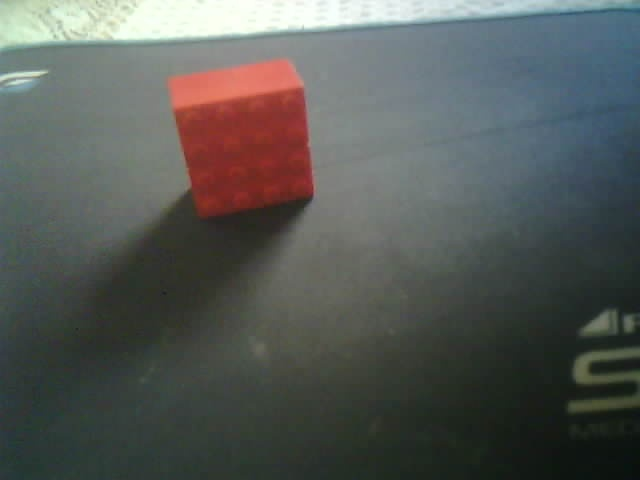lego: (165, 58, 314, 219)
